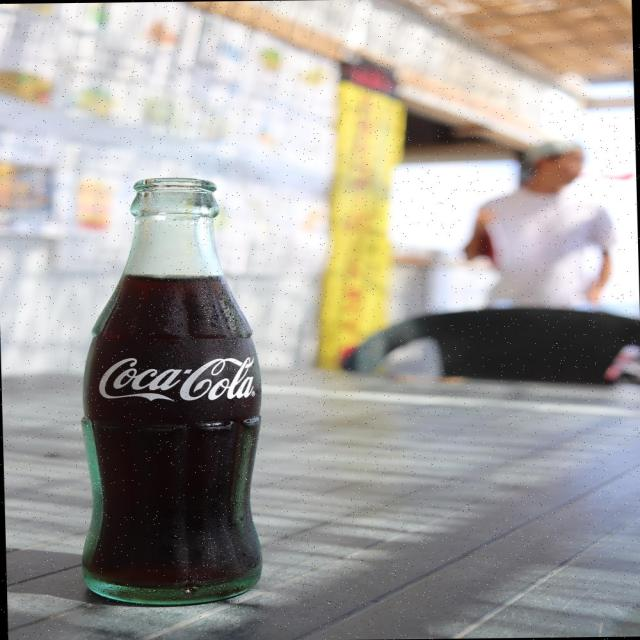coca-cola: (71, 172, 278, 610)
